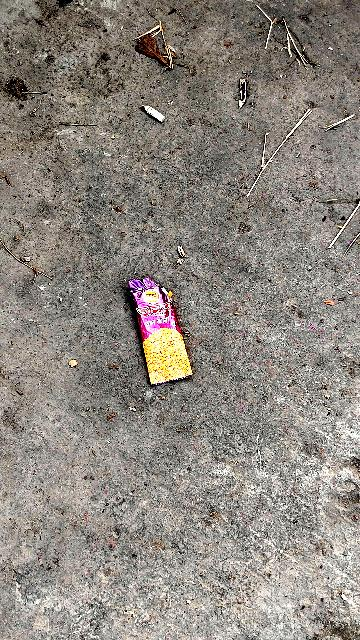packet: (116, 282, 196, 395)
